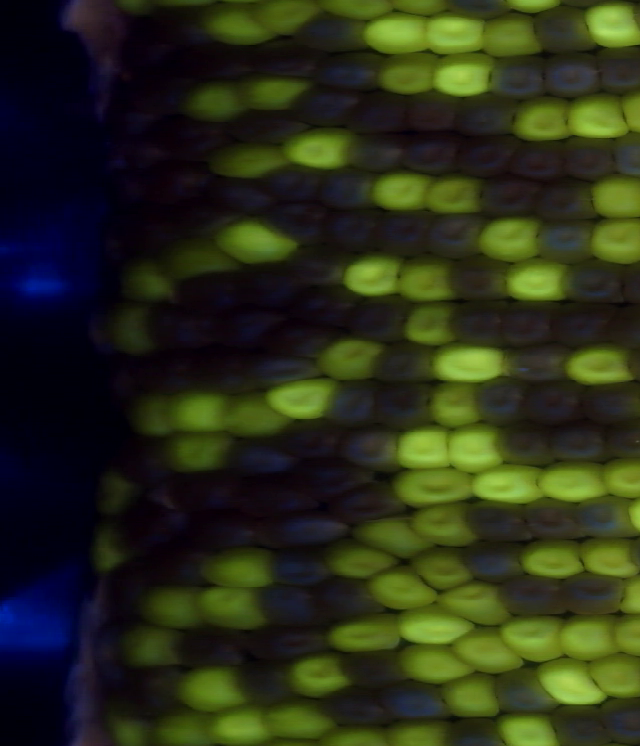fluorescent: (208, 211, 307, 270), (168, 660, 255, 718), (148, 232, 243, 285), (195, 1, 288, 54), (348, 513, 442, 565), (187, 581, 272, 637), (388, 460, 484, 509), (388, 602, 482, 651), (433, 577, 515, 632), (535, 652, 610, 711), (319, 535, 407, 585), (446, 624, 529, 677), (312, 331, 389, 388), (395, 638, 484, 687), (132, 581, 213, 634), (262, 373, 344, 425), (278, 123, 365, 172), (531, 454, 614, 505), (562, 87, 636, 144), (197, 542, 281, 592), (558, 338, 640, 389), (496, 610, 572, 665), (361, 564, 442, 615), (427, 335, 508, 385), (552, 608, 623, 665), (474, 211, 547, 266), (502, 253, 575, 308), (230, 71, 318, 116), (358, 9, 435, 60), (282, 648, 356, 701), (323, 611, 406, 658), (468, 458, 546, 508), (203, 698, 284, 746), (392, 418, 459, 476), (102, 292, 159, 360), (388, 250, 458, 305), (163, 384, 233, 439), (474, 10, 548, 62), (112, 255, 183, 309), (217, 388, 293, 438), (442, 419, 509, 475), (408, 498, 480, 550), (140, 704, 229, 746), (157, 424, 232, 473), (337, 247, 405, 301), (412, 171, 491, 217), (428, 48, 499, 99), (205, 137, 291, 179), (406, 544, 478, 594), (398, 296, 461, 353), (258, 699, 343, 741), (509, 92, 575, 146), (422, 10, 493, 60), (117, 621, 188, 671), (371, 48, 441, 98), (178, 77, 250, 125), (576, 531, 640, 585), (514, 535, 587, 582), (367, 168, 439, 215), (438, 671, 505, 721), (424, 376, 485, 429), (580, 1, 640, 54), (586, 213, 640, 271), (248, 1, 325, 39), (588, 168, 640, 223), (585, 651, 640, 703), (492, 708, 567, 746), (83, 517, 132, 574), (88, 469, 142, 519), (123, 392, 175, 441), (378, 715, 457, 746), (96, 710, 157, 746), (318, 1, 404, 25), (598, 455, 640, 502), (315, 725, 394, 746), (609, 608, 640, 661), (384, 1, 454, 21)
nonfluorescent: (111, 661, 195, 725), (114, 489, 195, 552), (249, 506, 358, 552), (314, 680, 399, 736), (295, 452, 382, 506), (324, 476, 412, 529), (169, 619, 255, 671), (192, 340, 266, 400), (335, 419, 410, 478), (255, 578, 334, 634), (111, 65, 190, 120), (243, 619, 337, 665), (369, 374, 442, 433), (373, 674, 457, 725), (233, 470, 321, 518), (488, 661, 564, 716), (515, 375, 592, 428), (311, 572, 388, 625), (258, 199, 338, 249), (528, 4, 602, 58), (205, 307, 290, 354), (224, 429, 302, 480), (136, 1, 217, 50), (134, 539, 210, 591), (142, 300, 221, 350), (555, 257, 632, 308), (138, 158, 212, 211), (558, 566, 632, 619), (495, 571, 573, 621), (528, 171, 600, 225), (118, 208, 191, 261), (517, 493, 591, 545), (248, 345, 328, 393), (247, 36, 330, 82), (109, 20, 177, 76), (286, 11, 372, 55), (445, 251, 515, 305), (180, 506, 260, 553), (542, 418, 617, 468), (538, 48, 607, 102), (548, 298, 617, 352), (138, 344, 211, 395), (96, 555, 149, 625), (232, 658, 302, 711), (350, 288, 415, 345), (368, 336, 439, 388), (162, 116, 237, 165), (338, 645, 413, 694), (531, 215, 600, 268), (463, 497, 536, 547), (461, 535, 531, 587), (272, 309, 340, 362), (568, 491, 640, 541), (307, 47, 385, 93), (374, 207, 440, 261), (235, 261, 305, 311), (116, 431, 175, 490), (445, 297, 513, 348), (100, 88, 155, 151), (492, 420, 564, 468), (172, 270, 252, 313), (275, 415, 345, 464), (498, 341, 574, 386), (321, 375, 382, 431), (472, 373, 534, 428), (292, 281, 366, 327), (425, 209, 488, 263), (454, 131, 522, 181), (485, 51, 553, 101), (399, 129, 464, 181), (95, 345, 152, 404), (263, 541, 334, 588), (343, 128, 411, 177), (557, 133, 622, 184), (286, 83, 355, 131), (452, 89, 521, 137), (478, 168, 541, 220), (498, 297, 562, 348), (576, 376, 640, 427), (218, 113, 311, 148), (322, 205, 384, 257), (168, 471, 241, 515), (180, 43, 258, 84), (346, 87, 411, 136), (259, 161, 325, 209), (286, 242, 355, 287), (402, 87, 464, 137), (315, 164, 378, 213), (509, 137, 575, 182), (547, 702, 613, 746), (210, 175, 273, 219), (593, 42, 640, 97), (594, 695, 640, 746), (603, 413, 640, 465), (92, 128, 123, 190), (603, 300, 640, 350), (610, 129, 640, 183)
